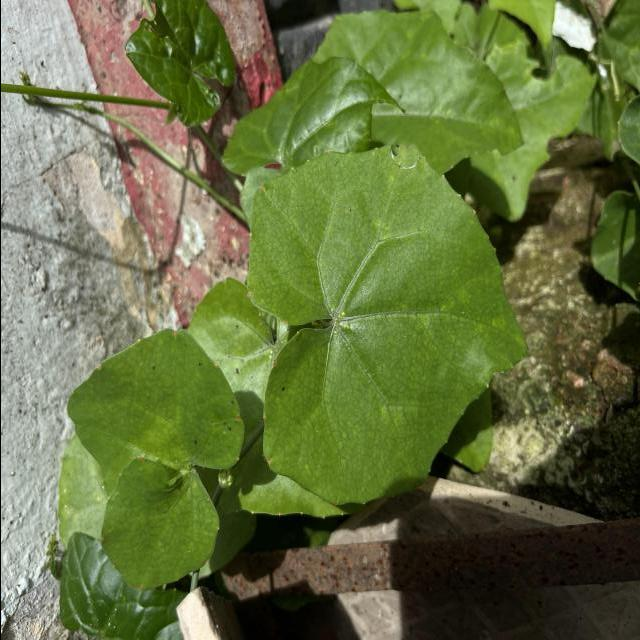Coccinia grandis: (242, 140, 529, 510)
